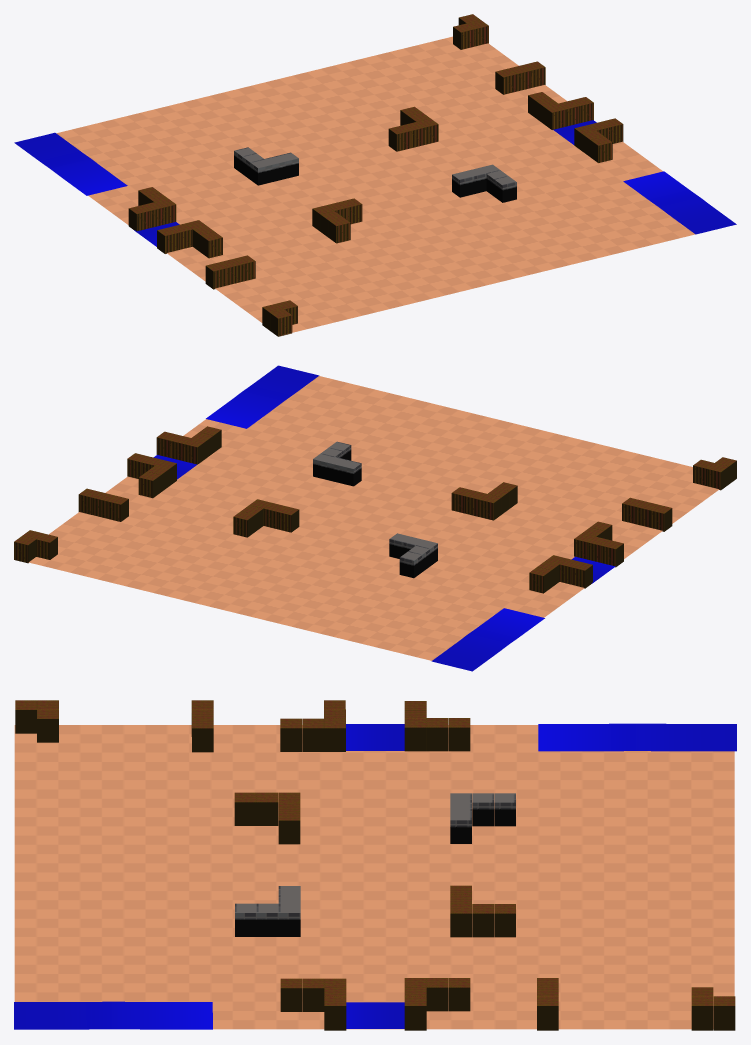
File: Dueling-Beetles.glb
The picture shows the model from 3 angles, top to bottom: view 1: azimuth 30°, elevation 25°; view 2: azimuth 150°, elevation 25°; view 3: azimuth 270°, elevation 25°; orthographic projection. The views are drawn at different scales.
Visible parts, largest first — view 1: Sol, Eau1, Eau2, Brique_35, Brique_23, Brique_24; view 2: Sol, Eau2, Eau1, Brique, Brique_23, Brique_4, Brique_12, Brique_17, Beton_, Brique_15, Beton_6, Brique_26 (+6 smaller); view 3: Sol, Eau1, Eau2, Plan.034, Plan.035, Brique, Brique_2, Brique_38, Brique_1, Brique_8, Brique_32, Beton_8 (+23 smaller).
Boxes of the visible parts, box(x1,y1,x2,y2) form: Sol: box(56, 36, 695, 335); Eau1: box(14, 132, 127, 195); Eau2: box(623, 171, 736, 234); Brique_35: box(270, 309, 292, 336); Brique_23: box(205, 262, 227, 289); Brique_24: box(157, 227, 179, 253); Sol: box(28, 376, 718, 660); Eau2: box(206, 365, 319, 428); Eau1: box(431, 608, 544, 671); Brique: box(14, 536, 36, 563); Brique_23: box(650, 504, 672, 531); Brique_4: box(106, 495, 128, 521); Brique_12: box(138, 471, 160, 498); Brique_17: box(233, 511, 255, 537); Beton_: box(399, 551, 421, 578); Brique_15: box(277, 506, 299, 532); Beton_6: box(339, 460, 361, 486); Brique_26: box(706, 463, 728, 490); Sol: box(14, 725, 734, 1029); Eau1: box(538, 723, 736, 751); Eau2: box(14, 1001, 212, 1029); Plan.034: box(346, 724, 404, 750); Plan.035: box(346, 1002, 404, 1028); Brique: box(713, 996, 735, 1030); Brique_2: box(404, 996, 426, 1030); Brique_38: box(324, 996, 346, 1030); Brique_1: box(691, 996, 713, 1030); Brique_8: box(426, 718, 448, 751); Brique_32: box(234, 792, 256, 825); Beton_8: box(256, 903, 278, 936).
Size of the model in its own units: 66.32 by 2.5 by 66.28.
5 materials, 5 textured.
